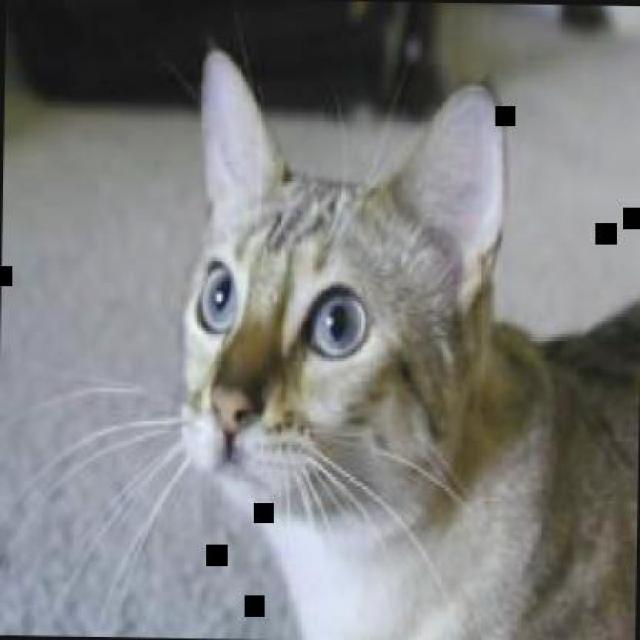cat: (172, 46, 638, 639)
